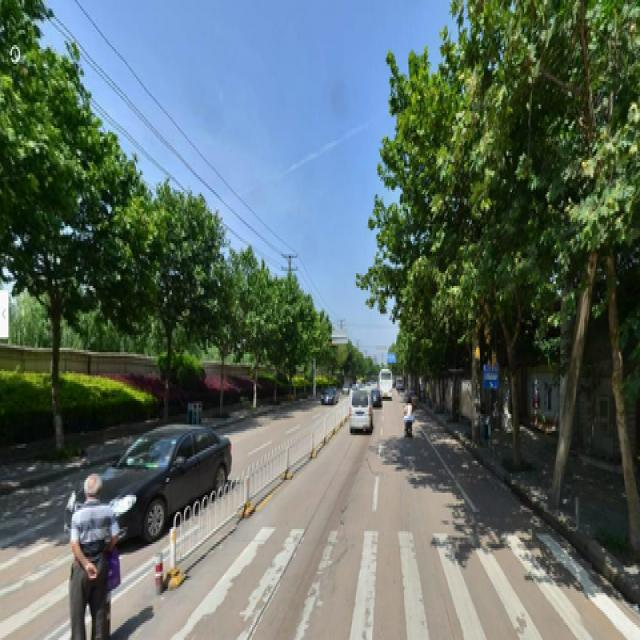meta: (132, 188, 195, 407), (214, 250, 254, 405)
